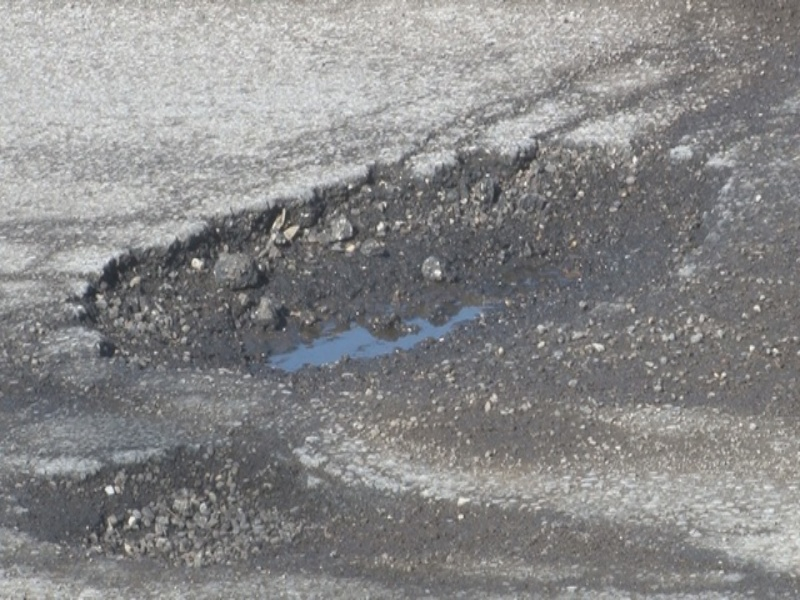pothole: (74, 127, 730, 385)
